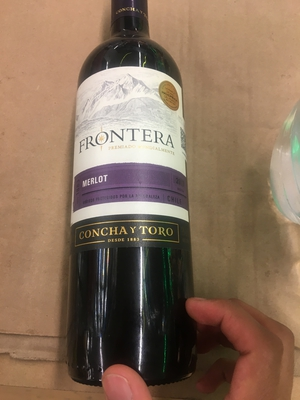frontera merlot: (60, 6, 200, 359)
